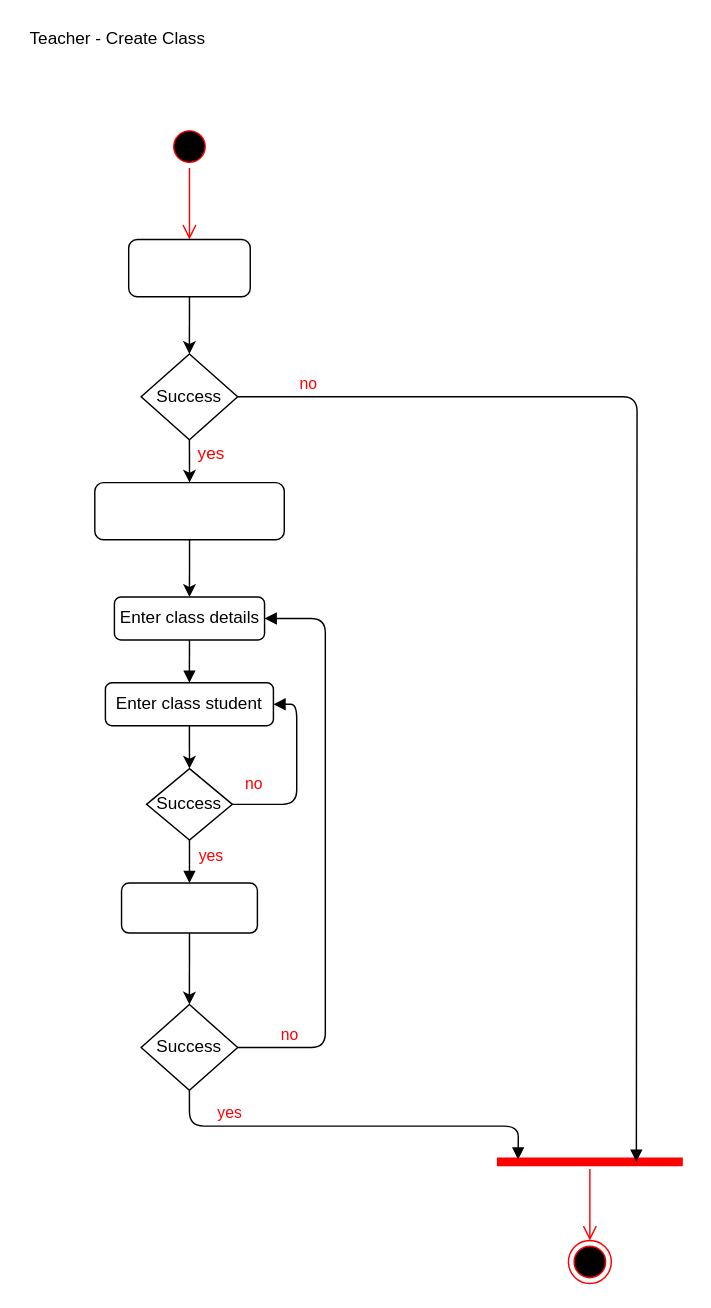
Image size: 711x1308. Some labels were removed from this diagram. Each missing label, with the centre of its shape:
"Choose Create Class" goes at pixel 188 510.
"Save" goes at pixel 188 907.
"SignIn" goes at pixel 188 267.
